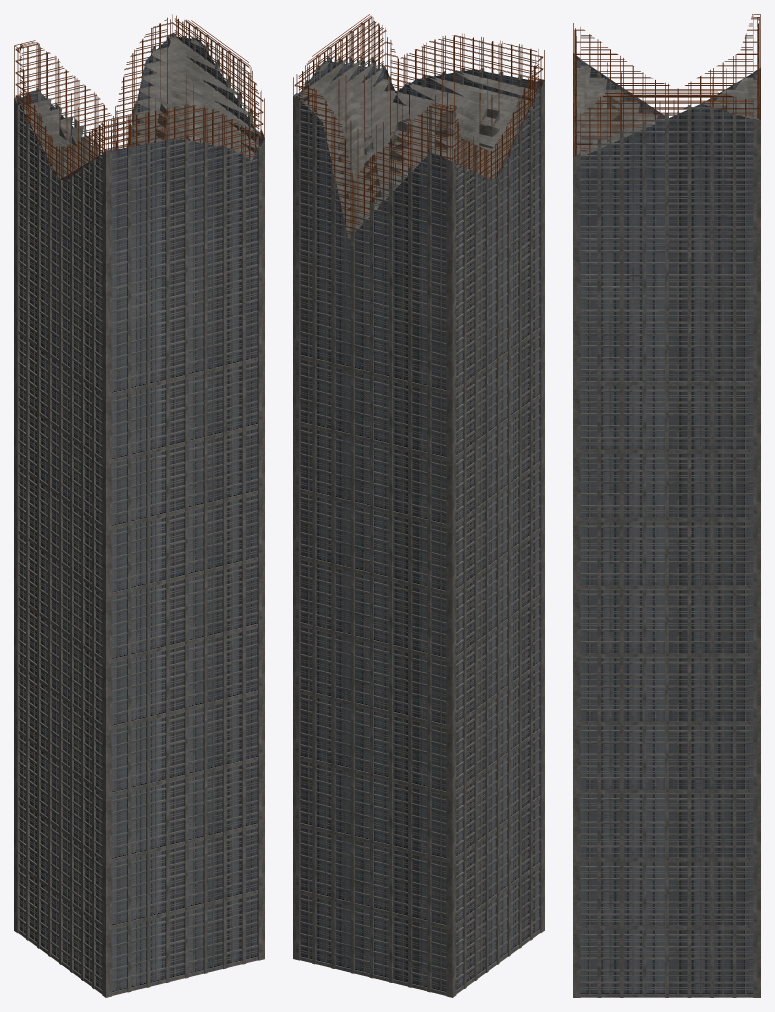
File: building_01.glb
3 views of the same model, side by side, from view 1: azimuth 30°, elevation 25°; view 2: azimuth 150°, elevation 25°; view 3: azimuth 270°, elevation 25° (orthographic). The views are drawn at different scales.
Parts seen in each view (by area): view 1: Building 01; view 2: Building 01; view 3: Building 01.
Part boxes in pixels (x1,y1,x2,y2): Building 01: [14, 14, 264, 997]; Building 01: [293, 14, 544, 997]; Building 01: [573, 14, 760, 997].
Size of the model in its own units: 50 by 266 by 50.
3 materials, 3 textured.
